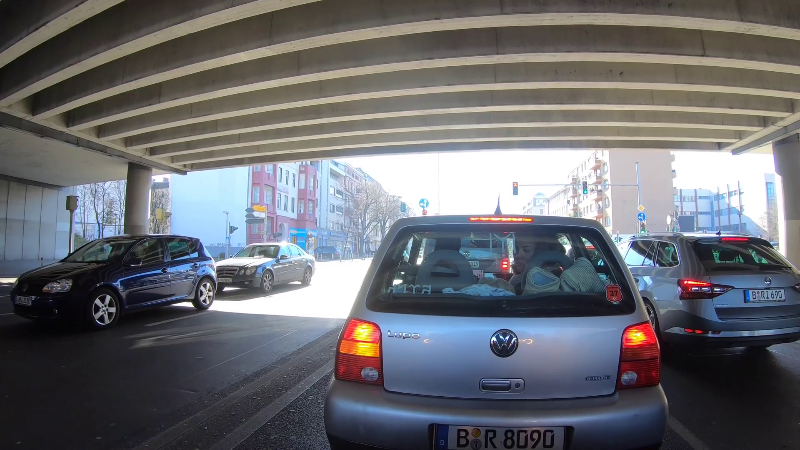Plate: (429, 420, 569, 450), (742, 288, 786, 302), (13, 295, 31, 305), (215, 275, 232, 284)
